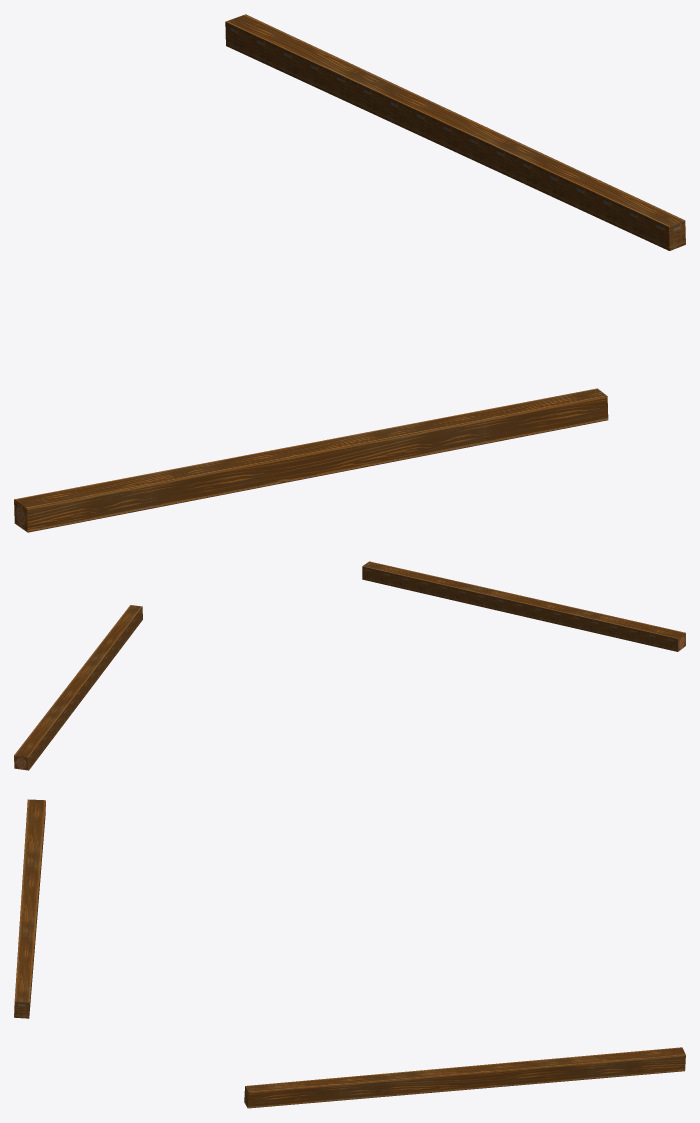
3 views of the same model, one above another, from view 1: azimuth 30°, elevation 25°; view 2: azimuth 150°, elevation 25°; view 3: azimuth 270°, elevation 25° (orthographic). The views are drawn at different scales.
Visible parts, largest first — view 1: Cube.2057; view 2: Cube.2057; view 3: Cube.2057.
Boxes of the visible parts, x1=… form: Cube.2057: x1=14, y1=14, x2=685, y2=532; Cube.2057: x1=14, y1=561, x2=685, y2=770; Cube.2057: x1=14, y1=799, x2=685, y2=1108.
Size of the model in its own units: 1387 by 92.66 by 1451.
1 material, 1 textured.
